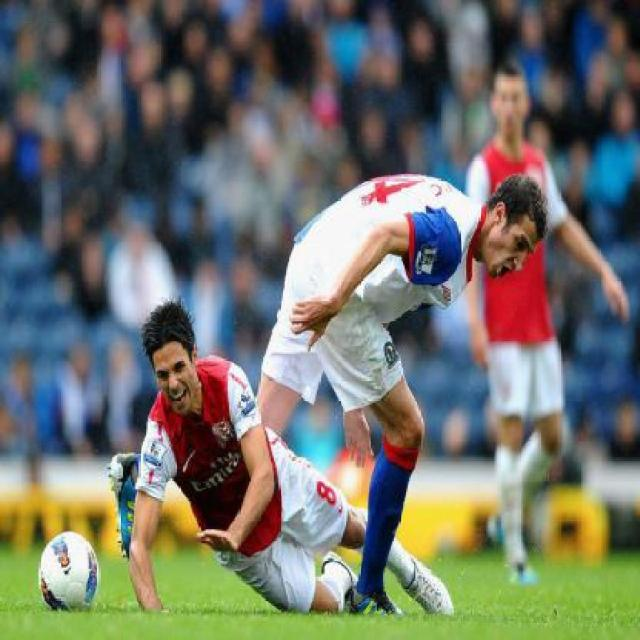Person: (234, 145, 540, 633)
